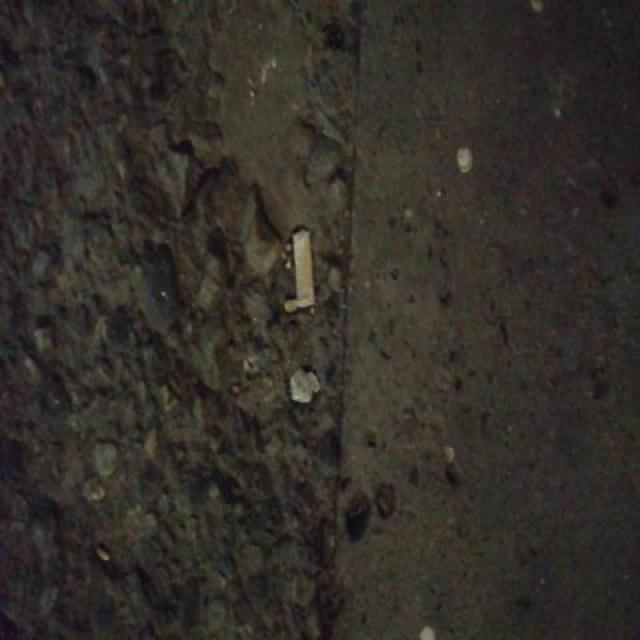non-organic waste: (289, 223, 319, 317)
